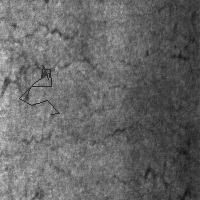crazing: (1, 24, 127, 101), (16, 120, 189, 156), (113, 152, 177, 188), (19, 65, 59, 114)
